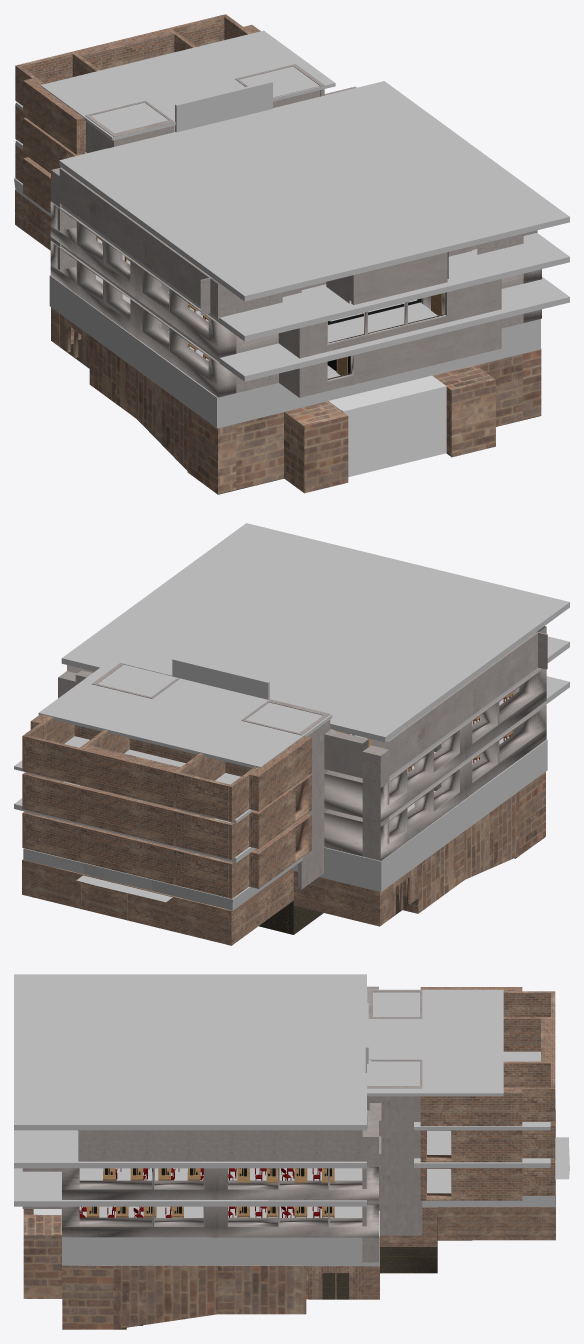
The model's file is ConVentanas.fbx.
The picture shows the model from 3 angles, top to bottom: view 1: azimuth 30°, elevation 25°; view 2: azimuth 150°, elevation 25°; view 3: azimuth 270°, elevation 25°; orthographic projection. The views are drawn at different scales.
Visible parts, largest first — view 1: Cube.151, Cube.040, Cube.152, Plane.006, Cube.105, Cube.099, Cube.039, Cube.005, Cube.056, Cube.112, Cube.069, Cube.110 (+14 smaller); view 2: Cube.151, Cube.152, Plane.006, Cube.036, Cube.005, Cube.056, Cube.040, Cube.110, Cube.112, Cube.063, Cube.053, Cube.109 (+19 smaller); view 3: Cube.151, Cube.040, Cube.152, Plane.006, Cube.118, Cube.056, Cube.005, Cube.099, Cube.110, Cube.105, Cube.036, Cube.049 (+18 smaller).
Boxes of the visible parts, left/top/right/bottom form: Cube.151: left=59, top=81, right=569, bottom=301; Cube.040: left=88, top=335, right=541, bottom=494; Cube.152: left=40, top=30, right=335, bottom=140; Plane.006: left=14, top=178, right=540, bottom=428; Cube.105: left=61, top=205, right=569, bottom=341; Cube.099: left=61, top=236, right=569, bottom=381; Cube.039: left=328, top=375, right=446, bottom=476; Cube.005: left=50, top=201, right=541, bottom=358; Cube.056: left=50, top=241, right=541, bottom=397; Cube.112: left=59, top=168, right=210, bottom=305; Cube.069: left=236, top=273, right=523, bottom=358; Cube.110: left=15, top=14, right=251, bottom=105; Cube.151: left=61, top=523, right=569, bottom=742; Cube.152: left=38, top=660, right=332, bottom=768; Plane.006: left=23, top=736, right=547, bottom=910; Cube.036: left=22, top=859, right=293, bottom=945; Cube.005: left=324, top=668, right=546, bottom=821; Cube.056: left=324, top=704, right=546, bottom=860; Cube.040: left=396, top=772, right=545, bottom=913; Cube.110: left=22, top=716, right=258, bottom=821; Cube.112: left=371, top=632, right=537, bottom=775; Cube.063: left=22, top=772, right=249, bottom=859; Cube.053: left=22, top=811, right=249, bottom=898; Cube.109: left=81, top=745, right=180, bottom=807; Cube.151: left=14, top=974, right=366, bottom=1130; Cube.040: left=23, top=1209, right=308, bottom=1329; Cube.152: left=367, top=989, right=503, bottom=1096; Plane.006: left=62, top=1098, right=569, bottom=1265; Cube.118: left=78, top=1130, right=362, bottom=1161; Cube.056: left=62, top=1204, right=378, bottom=1237; Cube.005: left=62, top=1167, right=378, bottom=1200; Cube.099: left=14, top=1168, right=366, bottom=1206; Cube.110: left=503, top=991, right=555, bottom=1122; Cube.105: left=14, top=1130, right=366, bottom=1168; Cube.036: left=437, top=1110, right=555, bottom=1240; Cube.049: left=362, top=1162, right=422, bottom=1262.
Size of the model in its own units: 2213 by 1533 by 3335.
